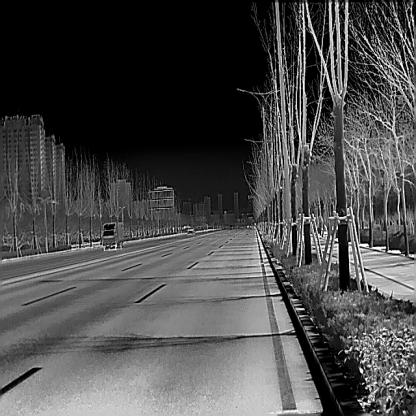car: (186, 227, 194, 234)
truck: (101, 221, 124, 250)
